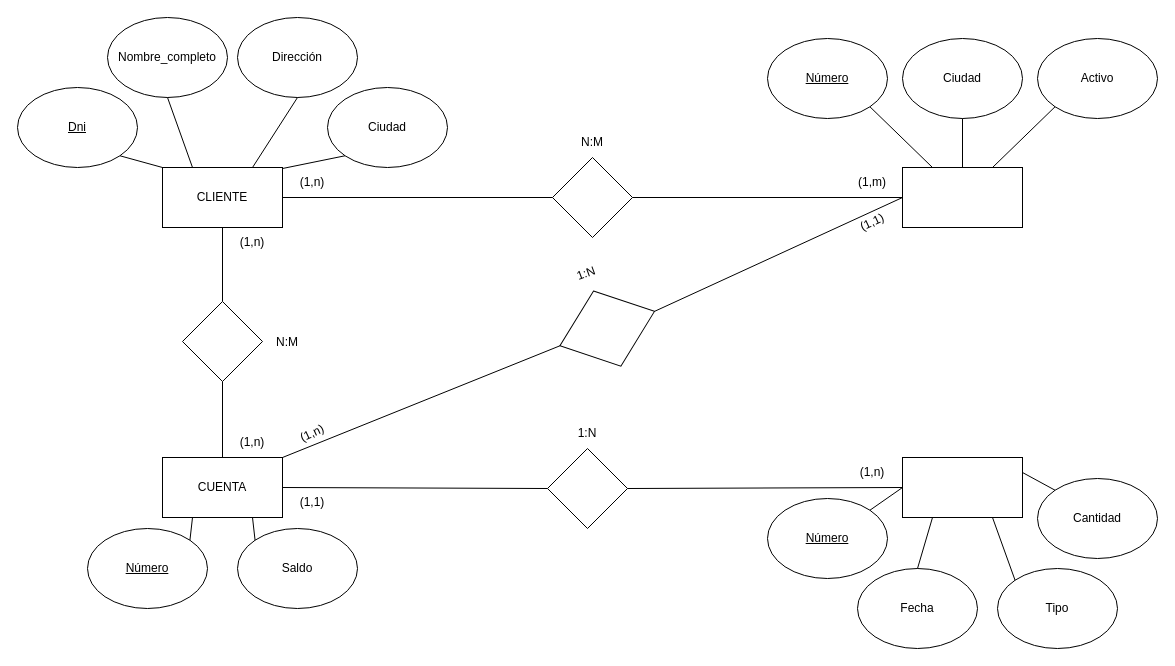
The diagram is 1175 pixels wide and 666 high, and some of its shapes have lost their labels. Each missing label, with the box of its shape:
Acudir: (552, 156, 632, 238)
Pertenecer: (545, 273, 668, 384)
Poseer: (182, 300, 262, 382)
Realizar: (546, 448, 628, 528)
SUCURSAL: (902, 166, 1022, 228)
TRANSACCIÓN: (902, 456, 1022, 518)
